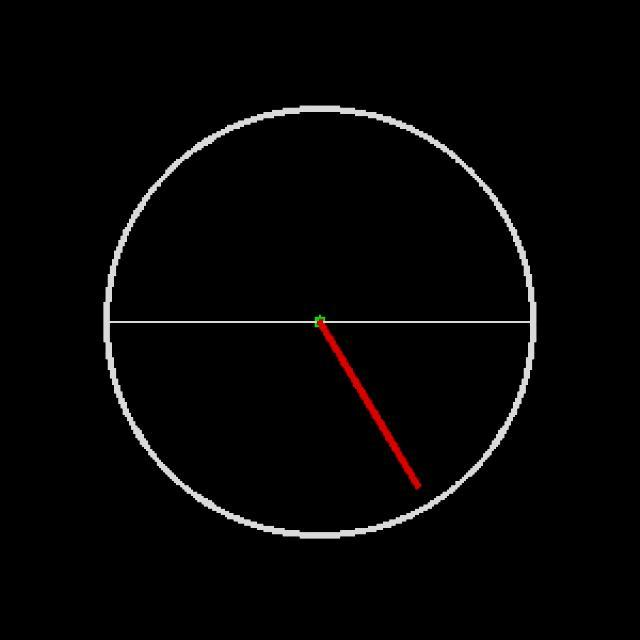Needle_Tip: (393, 452, 434, 498)
Needle_base: (283, 298, 356, 360)
